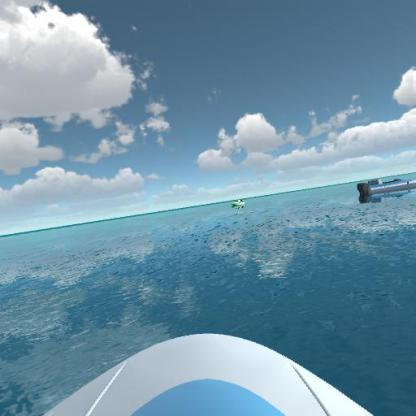usv0: (231, 197, 248, 209)
usv1: (356, 173, 415, 202)
